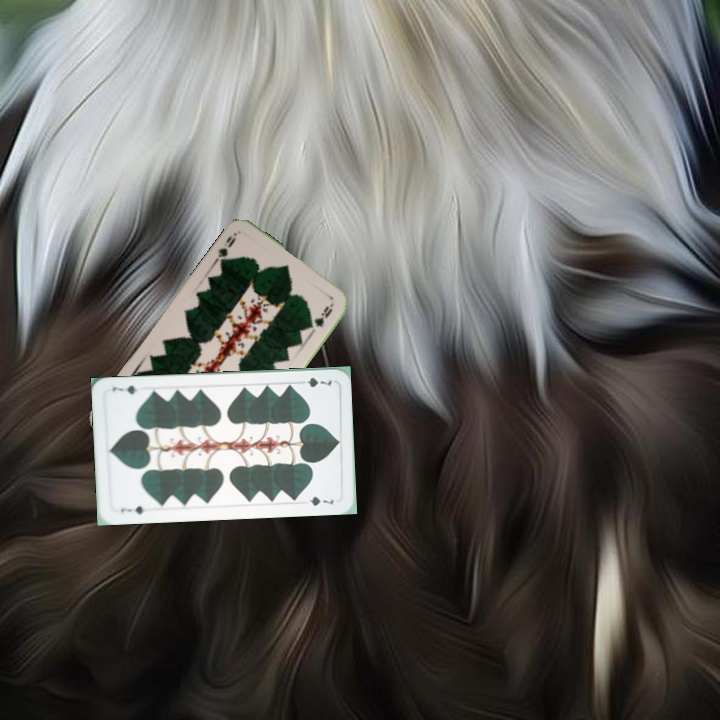G7: (294, 374, 334, 390), (117, 502, 152, 517)
G9: (211, 228, 240, 268)
